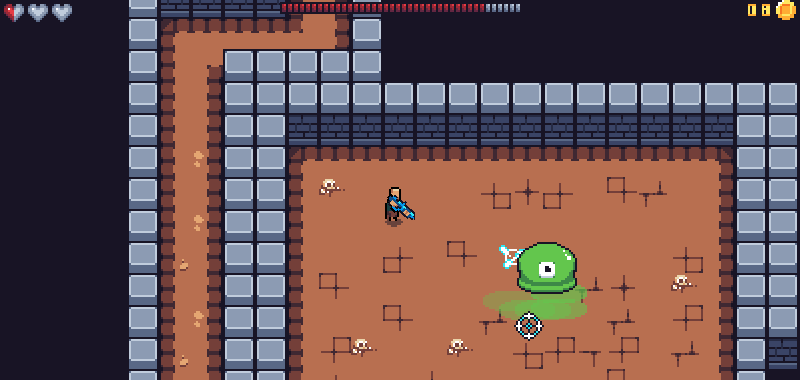enemy_slug_boss: (505, 229, 590, 305)
